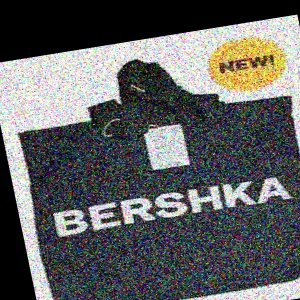bershka: (267, 90, 300, 239)
